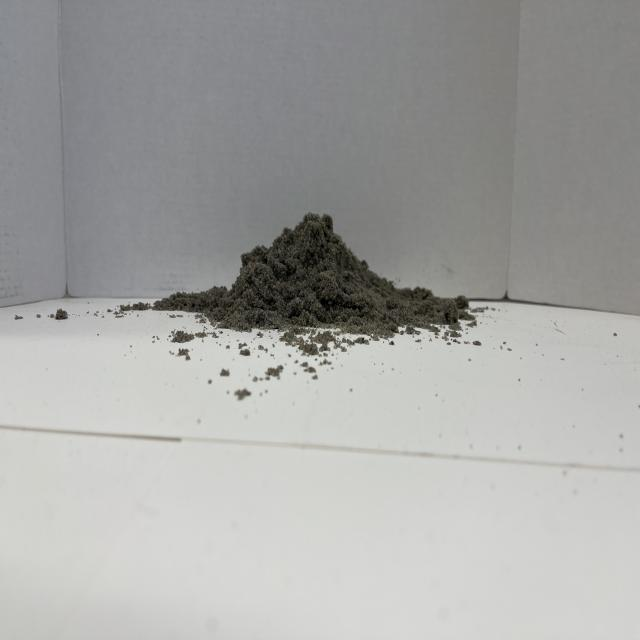sand: (166, 203, 454, 340)
